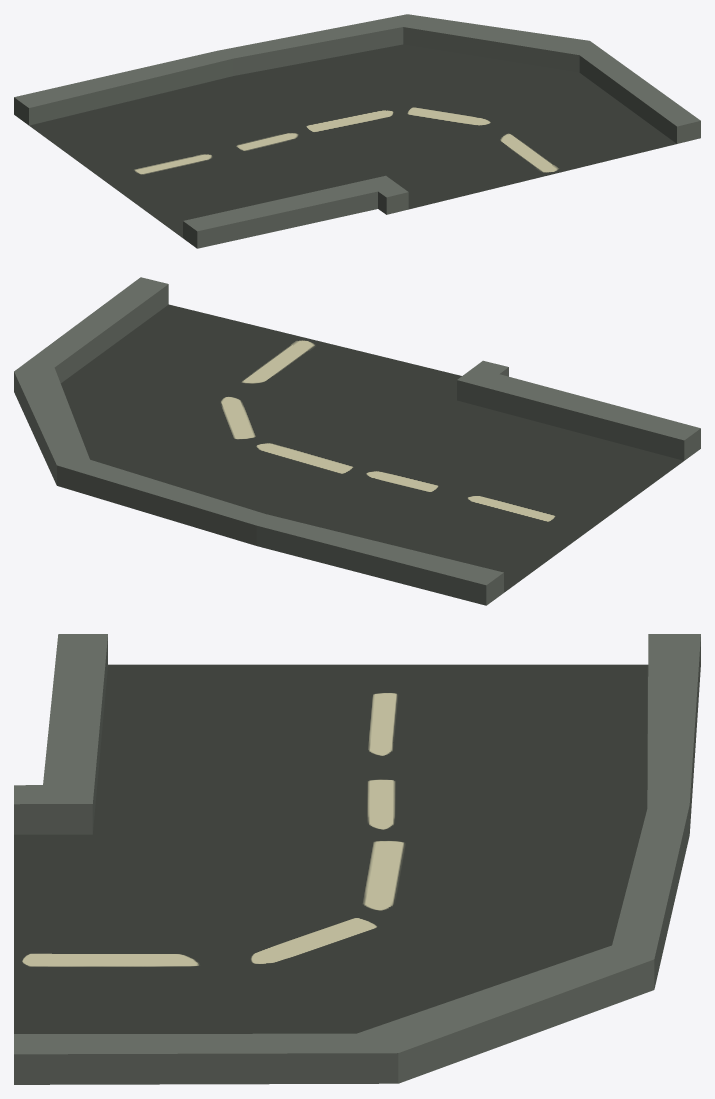
File: Road_Right.FBX
The picture shows the model from 3 angles, top to bottom: view 1: azimuth 30°, elevation 25°; view 2: azimuth 150°, elevation 25°; view 3: azimuth 270°, elevation 25°; orthographic projection. The views are drawn at different scales.
Visible parts, largest first — view 1: Turn right; view 2: Turn right; view 3: Turn right.
Part boxes in pixels (x1=…): Turn right: x1=14, y1=14, x2=700, y2=248; Turn right: x1=14, y1=277, x2=700, y2=605; Turn right: x1=14, y1=634, x2=700, y2=1084.
Bounding box in the file's own units: 147 × 5.01 × 102.
1 material, 1 textured.
